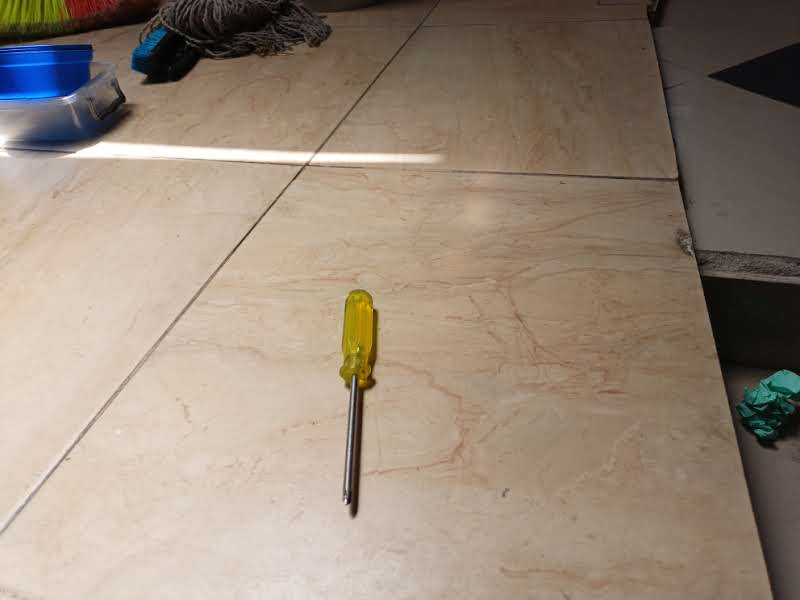Destornillador: (339, 290, 374, 503)
